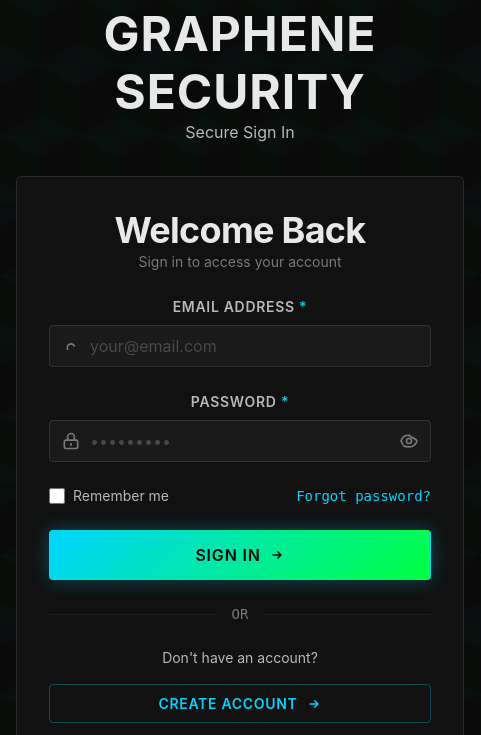
Test: LoginPage › Form Submission › should handle disabled account error
Note: Fill and submit form
Step 1. Type "john.doe@example.com" into the field labelled "Email Address *" → (240, 346), box left=49, top=325, right=431, bottom=367
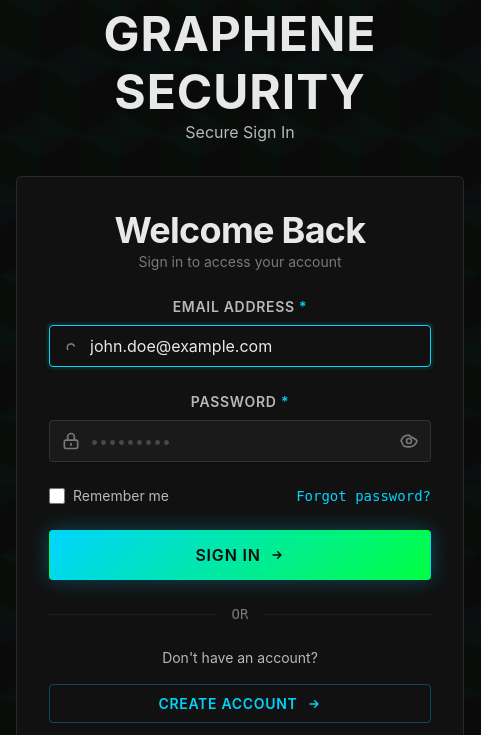
Step 2. Type "SecurePass123!" into the password field labelled "Password *" → (240, 441), box left=49, top=420, right=431, bottom=462
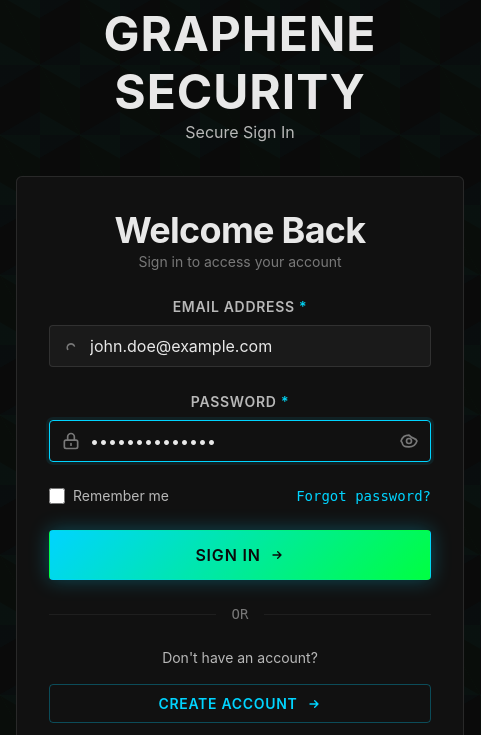
Step 3. Click the button "Sign In" → click(240, 555), box left=49, top=530, right=431, bottom=580
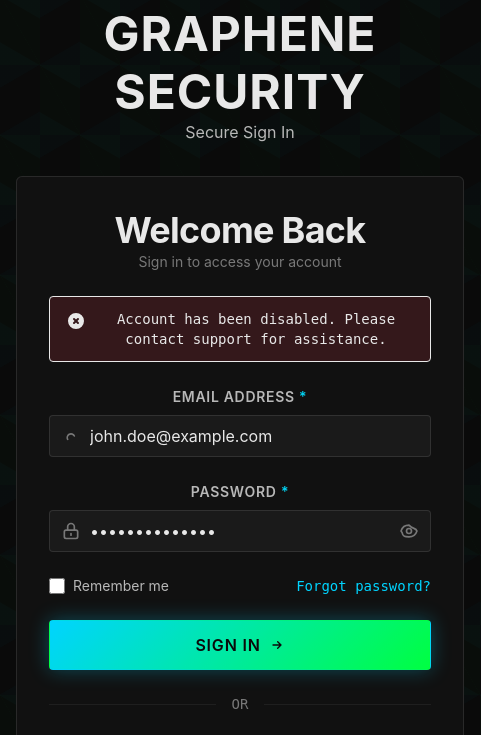
Check: the text "Account has been disabled. Please contact support for assistance." is shown, box left=98, top=309, right=414, bottom=349
